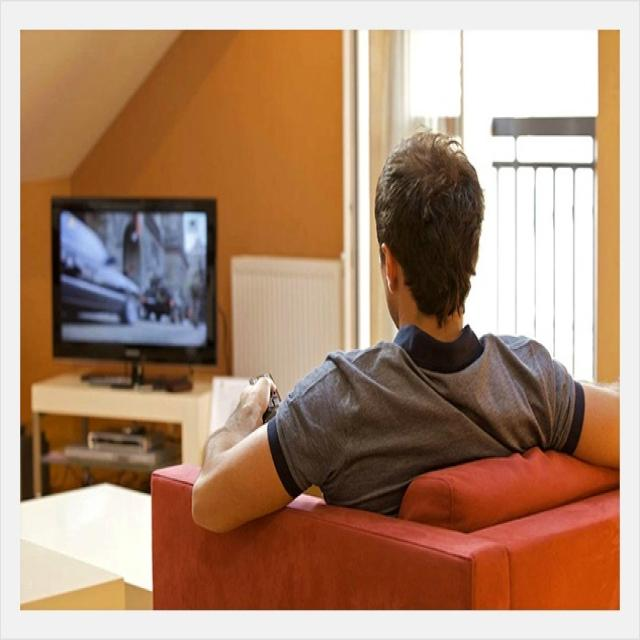tv-person: (41, 114, 620, 524)
